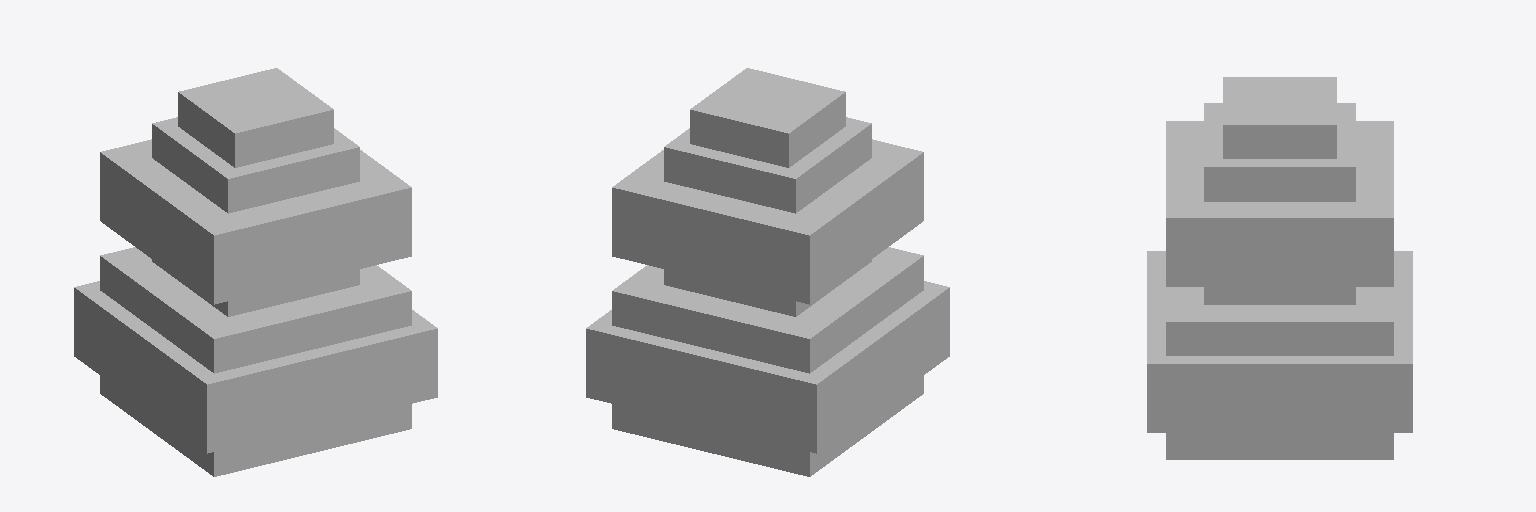
Rendered from connector_mv_io.obj.
3 renders of one model, left to right at view 1: azimuth 30°, elevation 25°; view 2: azimuth 150°, elevation 25°; view 3: azimuth 270°, elevation 25°, orthographic.
Parts seen in each view (by area): view 1: connector, cube; view 2: connector, cube; view 3: connector, cube.
Boxes of the visible parts, <box> form: connector: <box>100,68,411,476</box>; cube: <box>74,281,437,453</box>; connector: <box>612,68,923,476</box>; cube: <box>586,281,949,453</box>; connector: <box>1166,77,1393,459</box>; cube: <box>1147,251,1412,432</box>.
Size of the model in its own units: 0.4375 by 0.5625 by 0.4375.